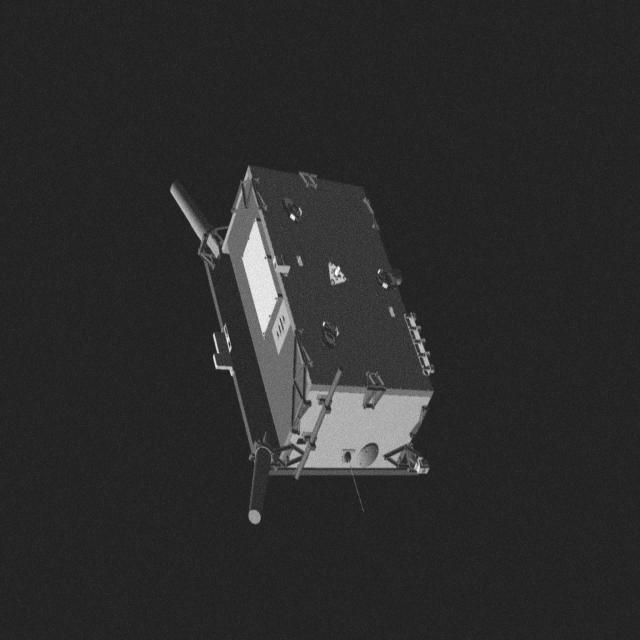satellite: (162, 164, 440, 522)
